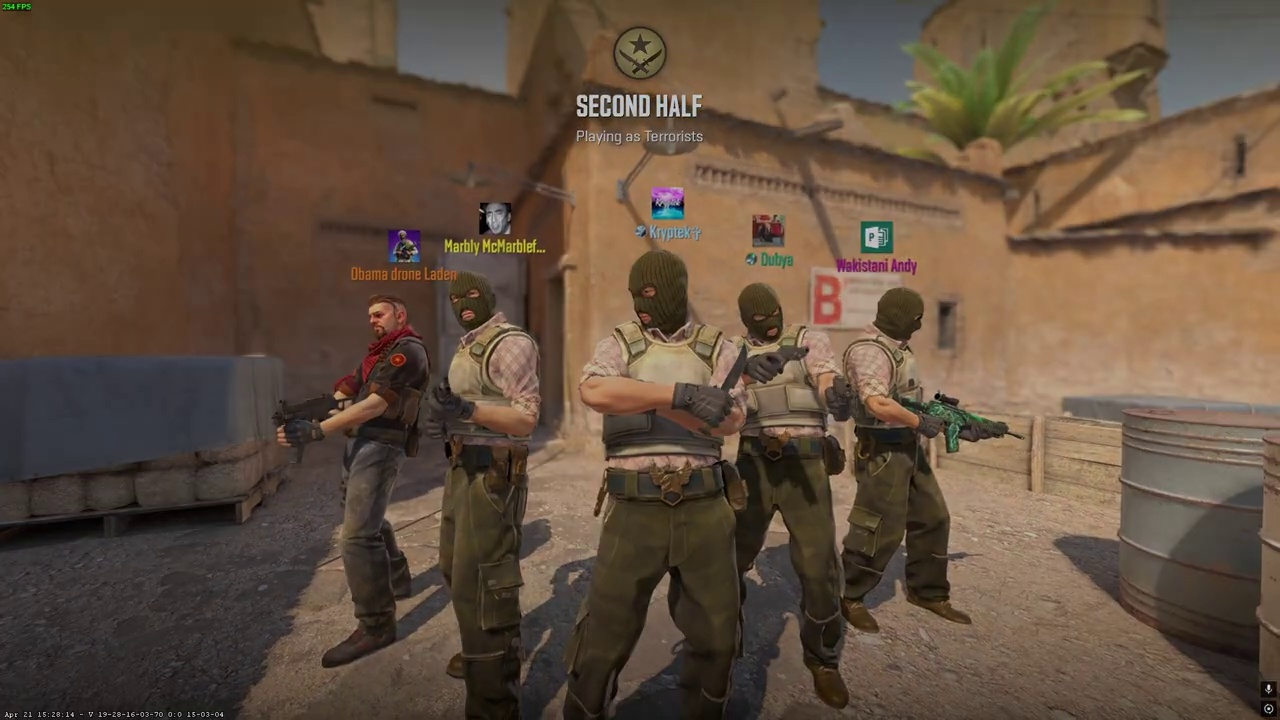Terrorist: (570, 248, 735, 720), (709, 279, 855, 717), (431, 270, 558, 700), (838, 285, 975, 631), (312, 295, 437, 666)
